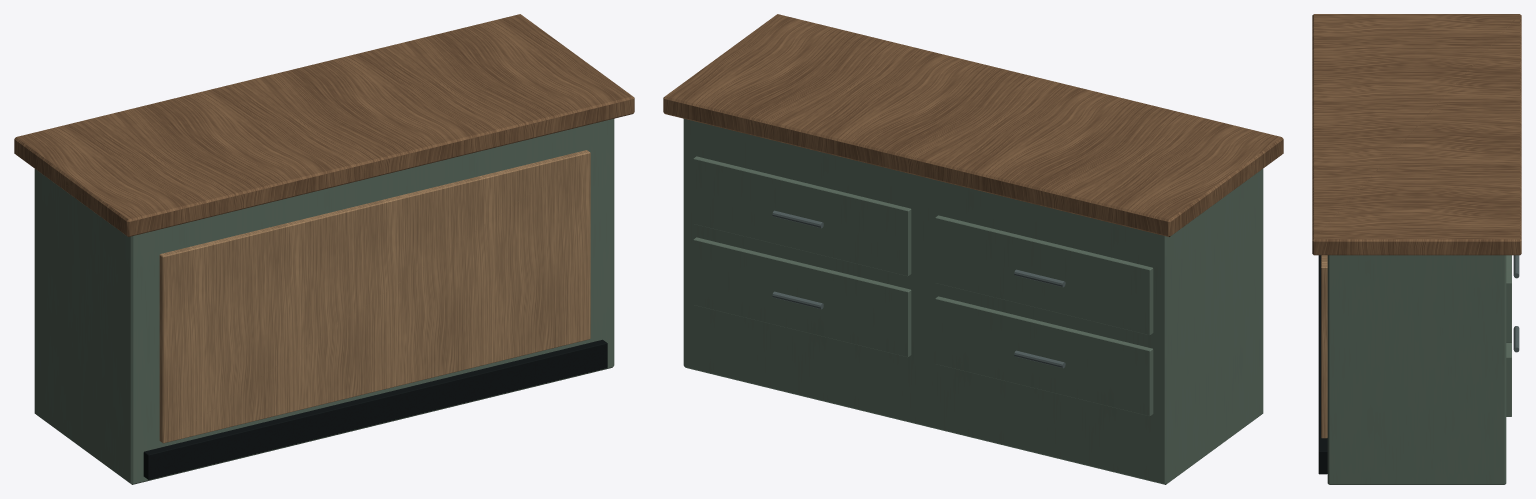
The model's file is service_counter_2m.glb.
The picture shows the model from 3 angles, left to right: view 1: azimuth 30°, elevation 25°; view 2: azimuth 150°, elevation 25°; view 3: azimuth 270°, elevation 25°; orthographic projection. The views are drawn at different scales.
Visible parts, largest first — view 1: service_counter_2m; view 2: service_counter_2m; view 3: service_counter_2m.
Boxes of the visible parts, x1,y1,x2,y2 form: service_counter_2m: (14,14,634,484); service_counter_2m: (663,14,1283,484); service_counter_2m: (1312,14,1521,484).
Bounding box in the file's own units: 2.1 × 1.08 × 0.82.
5 materials, 5 textured.
